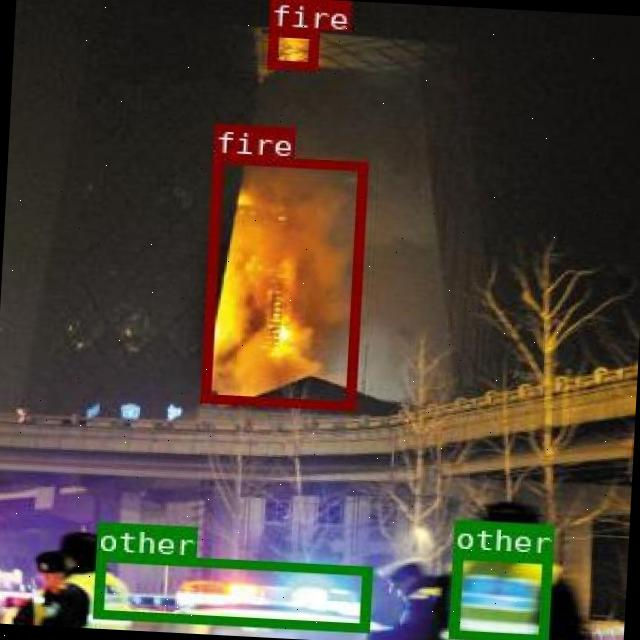fire: (198, 154, 364, 409), (266, 26, 318, 68)
